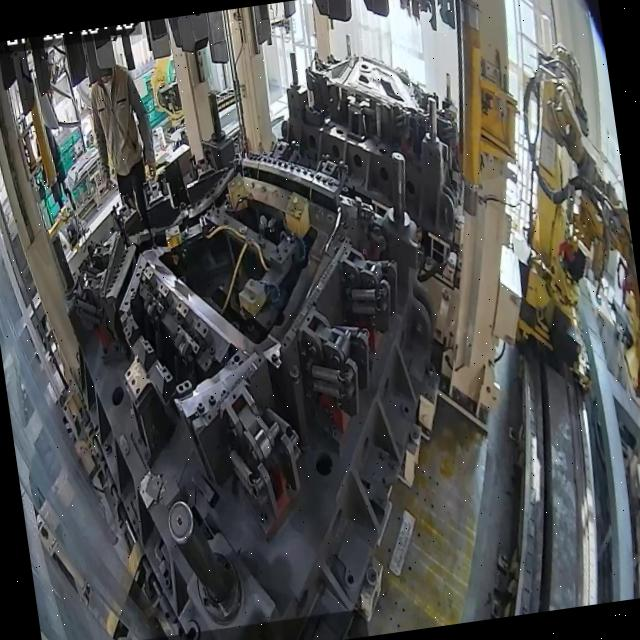Person: (85, 59, 166, 245), (33, 120, 74, 212)
